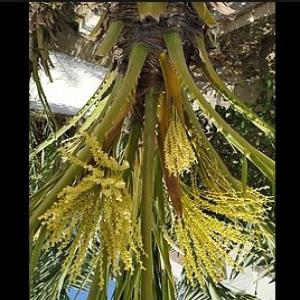palm tree: (28, 1, 275, 299)
